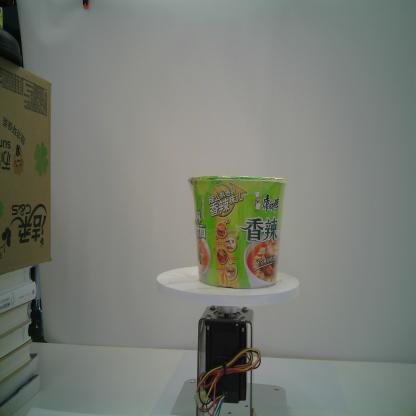Instant Noodles: (187, 174, 289, 291)
